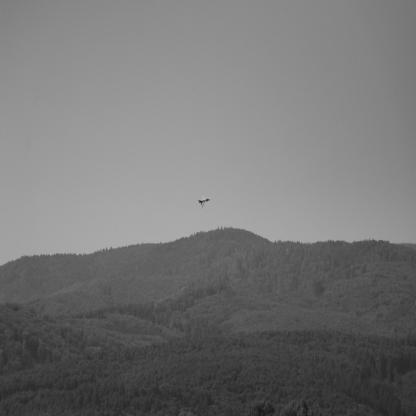JAS39: (199, 194, 213, 210)
